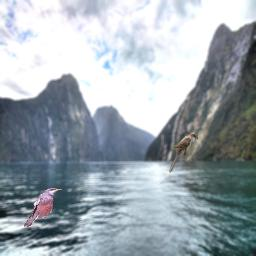Cuckoo: (24, 188, 62, 228), (169, 133, 198, 173)
